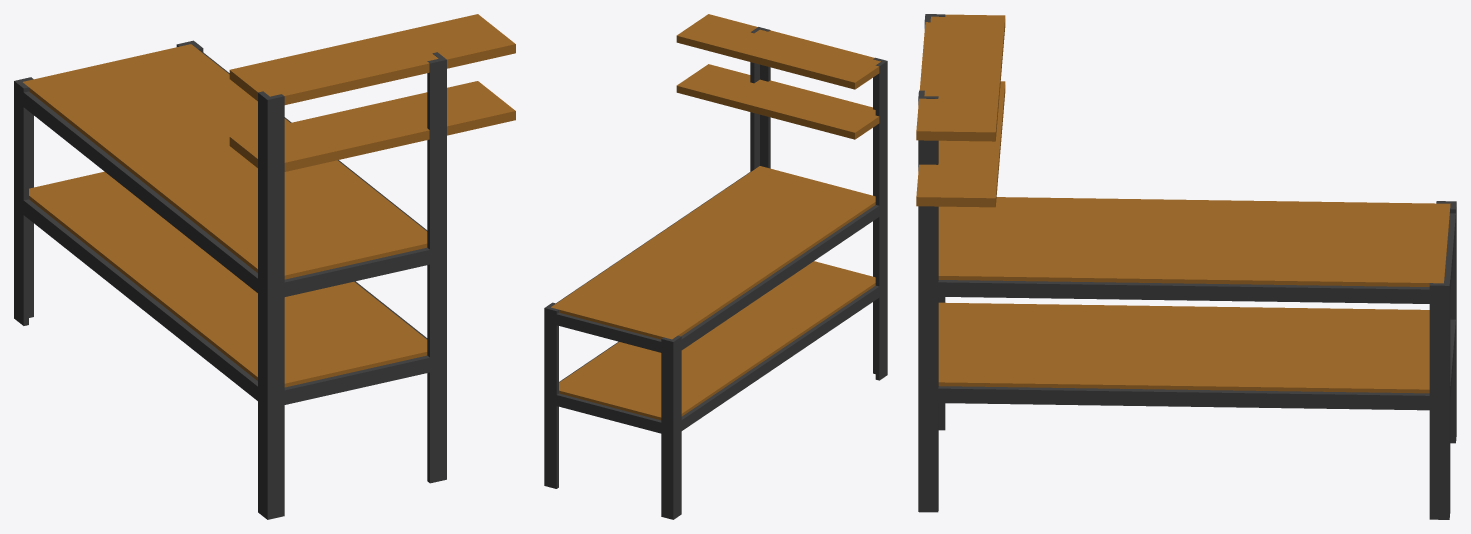
3 views of the same model, side by side, from view 1: azimuth 30°, elevation 25°; view 2: azimuth 150°, elevation 25°; view 3: azimuth 270°, elevation 25° (orthographic). The views are drawn at different scales.
Parts seen in each view (by area): view 1: shelving_stand; view 2: shelving_stand; view 3: shelving_stand.
Boxes of the visible parts, x1,y1,x2,y2 form: shelving_stand: (14, 14, 515, 519); shelving_stand: (544, 14, 887, 519); shelving_stand: (916, 14, 1456, 519).
Size of the model in its own units: 0.9479 by 1.54 by 1.83.
